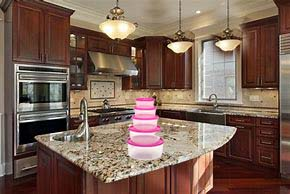copymove: (52, 122, 81, 148)
removal: (213, 1, 243, 50)
spliced: (128, 96, 162, 161)
